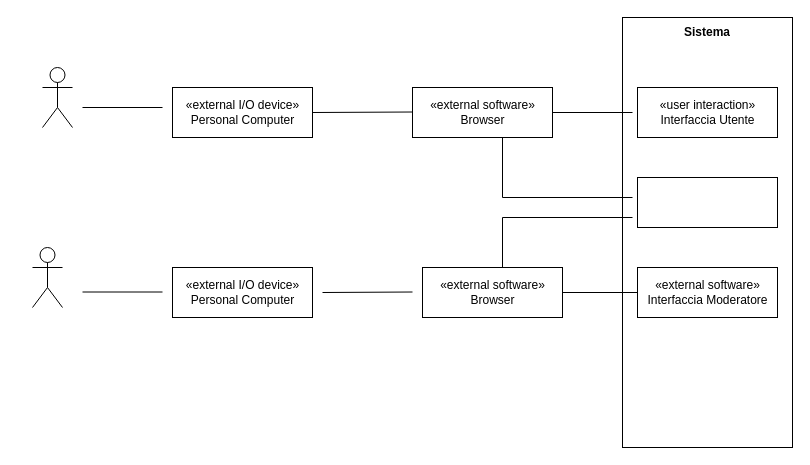
This 810x465 diagram has some shape labels left out. Here are the shapes that lost their labels. From the top down, the box of each, then its label:
(42, 66, 72, 128): Utente
(636, 176, 778, 228): «user interaction» Login interface
(32, 246, 62, 308): Moderatore
